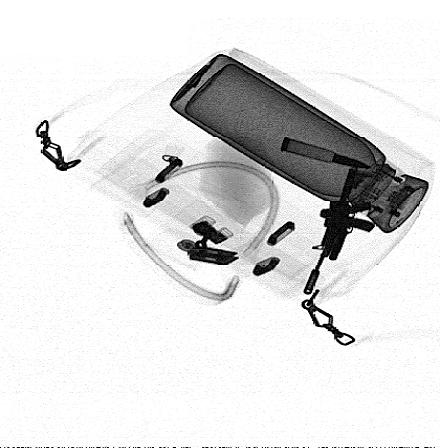Bullet: (280, 136, 373, 168)
Gun: (303, 168, 376, 294)
